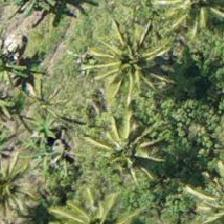coconut_tree: (88, 98, 178, 188), (85, 16, 175, 106), (158, 0, 223, 45)
